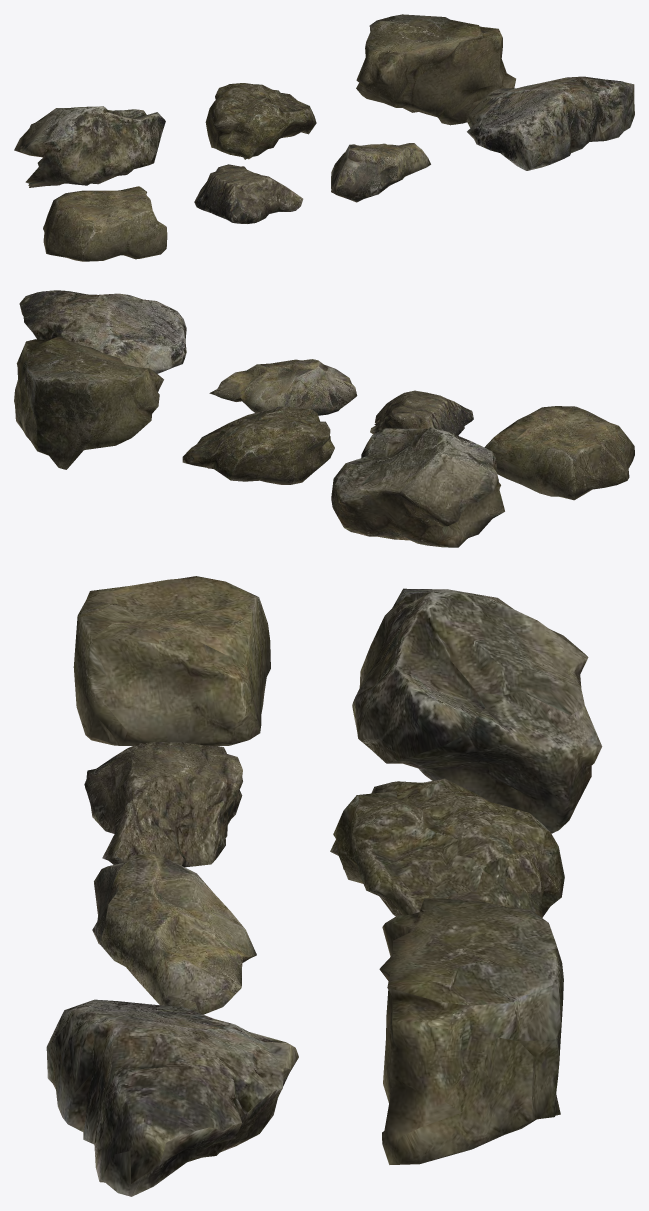
3 renders of one model, top to bottom at view 1: azimuth 30°, elevation 25°; view 2: azimuth 150°, elevation 25°; view 3: azimuth 270°, elevation 25°, orthographic. The views are drawn at different scales.
Parts seen in each view (by area): view 1: rock_moss_set_02_rock08; view 2: rock_moss_set_02_rock08; view 3: rock_moss_set_02_rock08.
Part boxes in pixels (x1,y1,x2,y2): rock_moss_set_02_rock08: (14,14,634,261); rock_moss_set_02_rock08: (14,290,634,547); rock_moss_set_02_rock08: (46,576,602,1196).
Bounding box in the file's own units: 8.28 × 1.36 × 3.41.
Materials: 1 (1 with a texture image).
